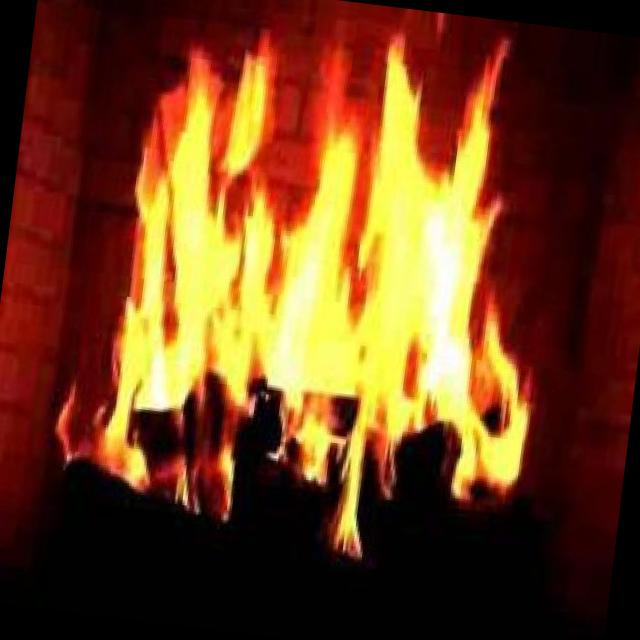Fire: (32, 0, 593, 586)
